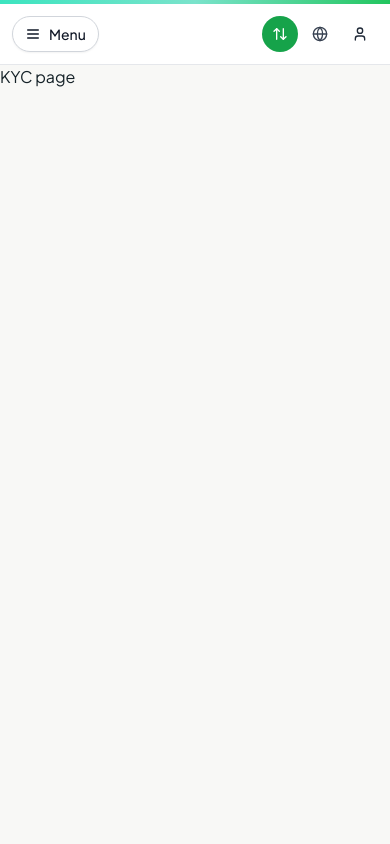
Test: mobile account navigation › opens from the real account header and marks KYC/KYB active
This screenshot has width=390, height=844.
Step 1. Click the button "Menu" → click(55, 34), box x1=12 y1=16 x2=99 y2=52
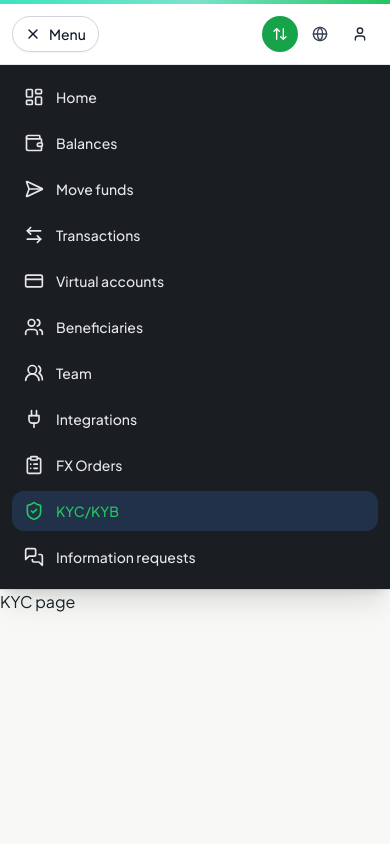
Expected: the link named "Move funds" is shown, x1=262 y1=16 x2=298 y2=52
Expected: the button "Menu" is expanded, x1=12 y1=16 x2=99 y2=52
